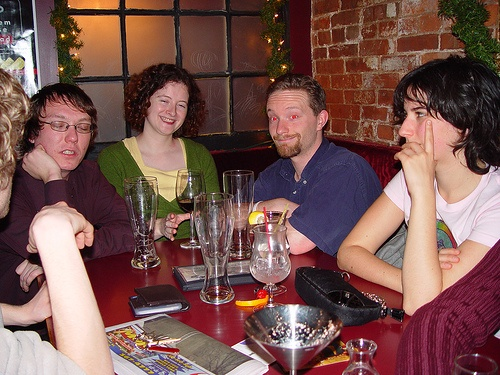head: (391, 54, 500, 167), (27, 81, 96, 175), (263, 69, 331, 161), (141, 64, 192, 141)
person: (330, 48, 498, 331), (1, 77, 133, 292), (247, 68, 377, 255), (96, 61, 221, 223)
